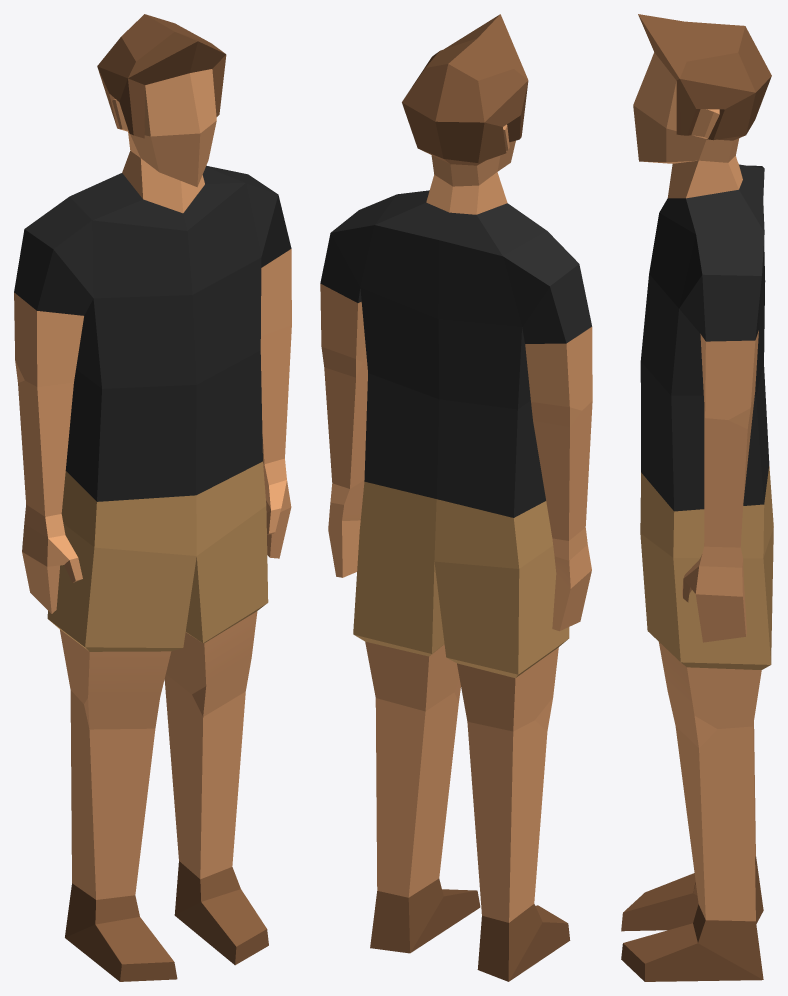
File: people_man-casual.fbx
3 views of the same model, side by side, from view 1: azimuth 30°, elevation 25°; view 2: azimuth 150°, elevation 25°; view 3: azimuth 270°, elevation 25° (orthographic). The views are drawn at different scales.
Parts seen in each view (by area): view 1: people_man_casual; view 2: people_man_casual; view 3: people_man_casual.
Boxes of the visible parts, x1=… form: people_man_casual: x1=14, y1=14, x2=291, y2=981; people_man_casual: x1=320, y1=14, x2=592, y2=981; people_man_casual: x1=621, y1=14, x2=773, y2=981.
Bounding box in the file's own units: 57.96 × 200 × 29.7.
